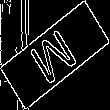M_SE: (26, 21, 84, 89)
